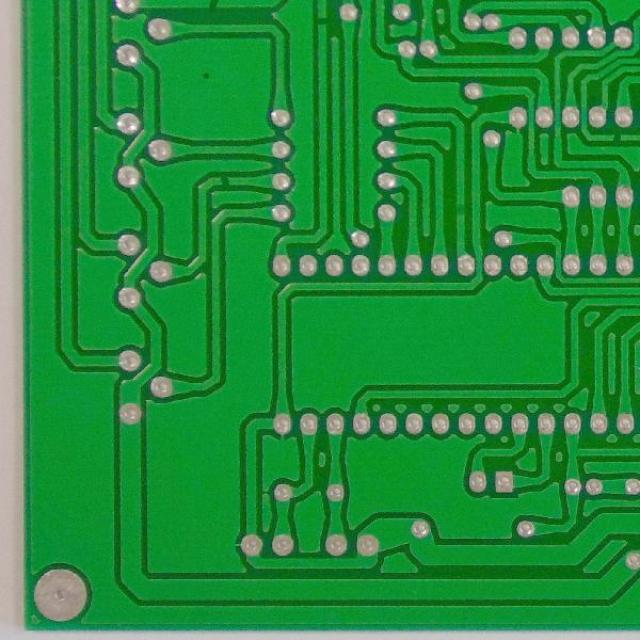Open_Circuit: (312, 10, 333, 34), (200, 0, 228, 16), (212, 171, 235, 190), (607, 127, 627, 144)
